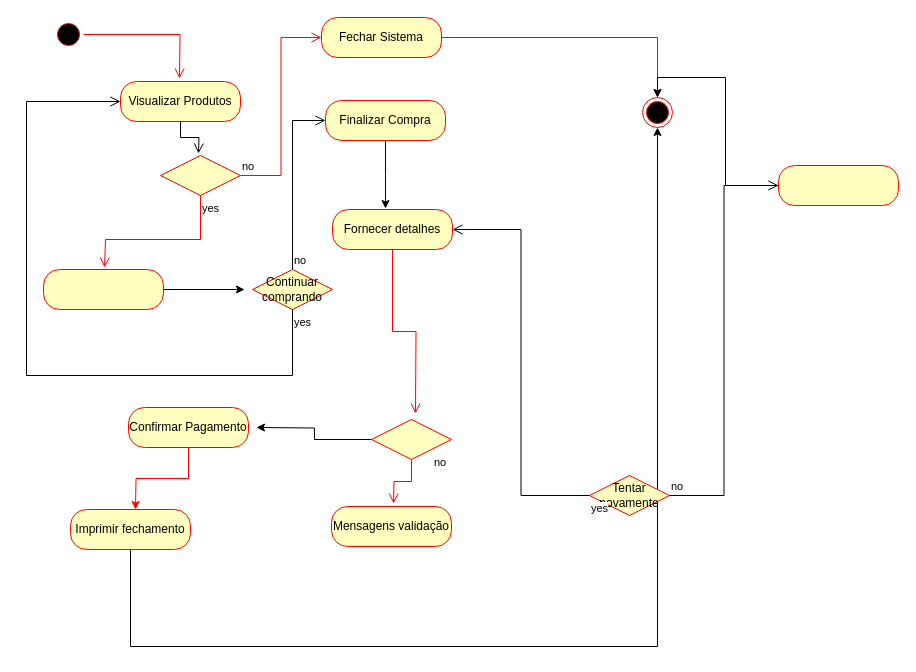
This 916x672 diagram has some shape labels left out. The box of each missing label's shape, as (x1, y1, x2, y2) in pixels:
Adicionar Produto ao Carrinho: (42, 268, 164, 310)
Cancelar: (778, 164, 898, 206)
Detalhes Validados: (370, 418, 452, 460)
Selecionar Produto?: (160, 154, 240, 196)
